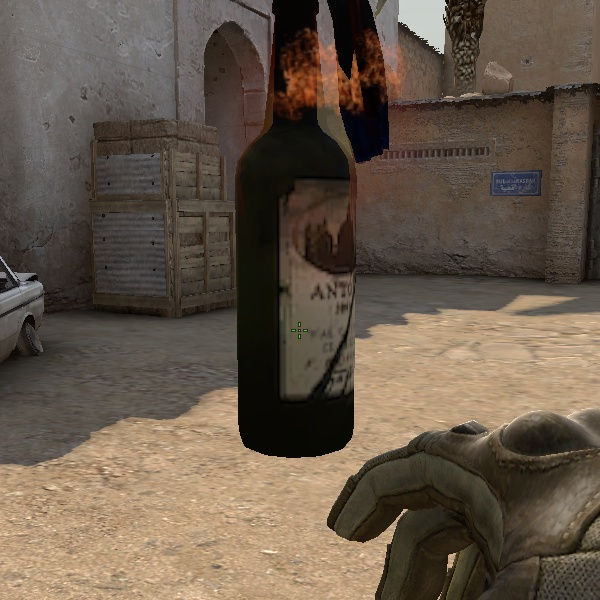t_body: (253, 0, 436, 158)
